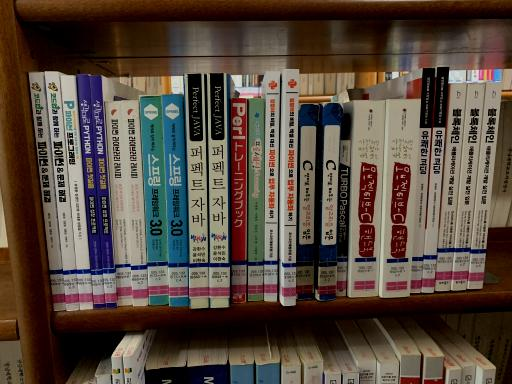book-spine: (28, 72, 67, 311), (45, 72, 80, 311), (381, 98, 421, 298), (61, 76, 94, 309), (467, 82, 502, 289), (350, 100, 386, 297), (76, 74, 106, 309), (452, 82, 485, 290), (436, 83, 467, 291), (90, 75, 117, 308), (183, 74, 209, 309), (422, 67, 449, 293), (162, 95, 190, 306), (141, 96, 169, 305), (121, 100, 149, 306), (207, 73, 230, 309), (411, 68, 435, 293), (106, 101, 132, 306), (318, 103, 342, 301), (296, 104, 319, 300), (283, 69, 299, 306), (264, 71, 280, 301), (248, 99, 265, 301), (231, 98, 247, 303), (336, 141, 351, 297)
